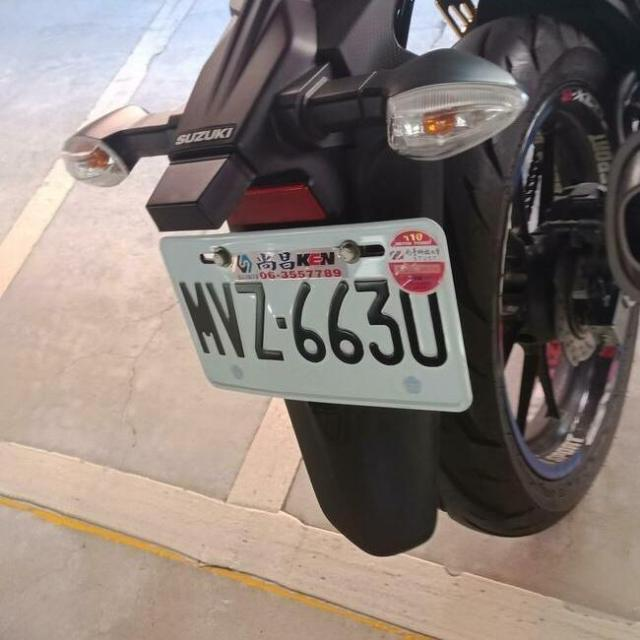W: (155, 205, 478, 432)
